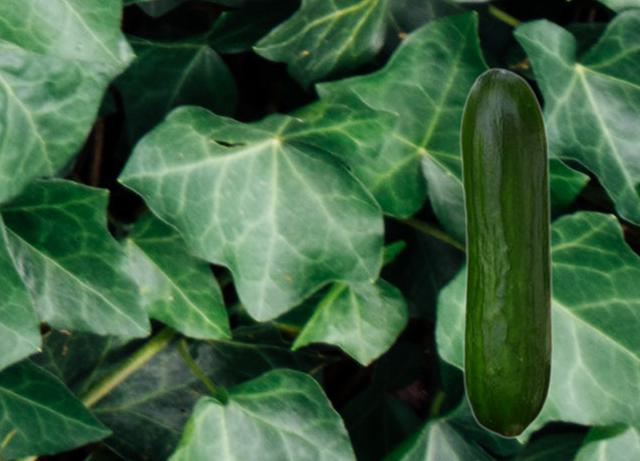cucumber: (459, 67, 553, 438)
